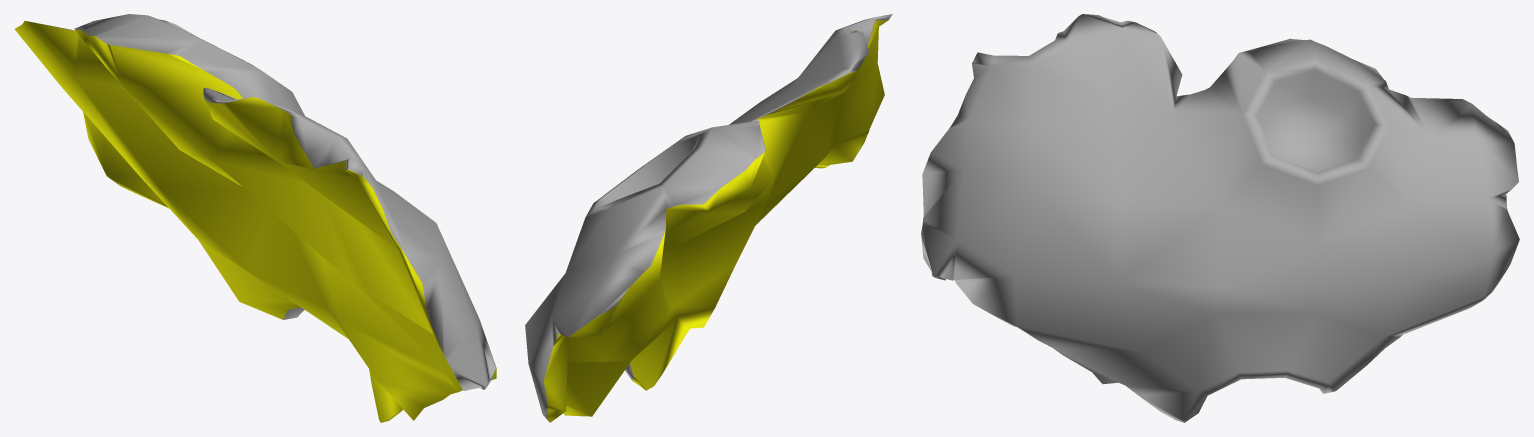
Rendered from Asteroid_01_shard_02.fbx.
3 renders of one model, left to right at view 1: azimuth 30°, elevation 25°; view 2: azimuth 150°, elevation 25°; view 3: azimuth 270°, elevation 25°, orthographic. The views are drawn at different scales.
Parts seen in each view (by area): view 1: Asteroid_01_shard_02; view 2: Asteroid_01_shard_02; view 3: Asteroid_01_shard_02.
Boxes of the visible parts, x1,y1,x2,y2 form: Asteroid_01_shard_02: (14,14,496,422); Asteroid_01_shard_02: (525,14,892,422); Asteroid_01_shard_02: (921,14,1519,422).
Size of the model in its own units: 273 by 441 by 715.
